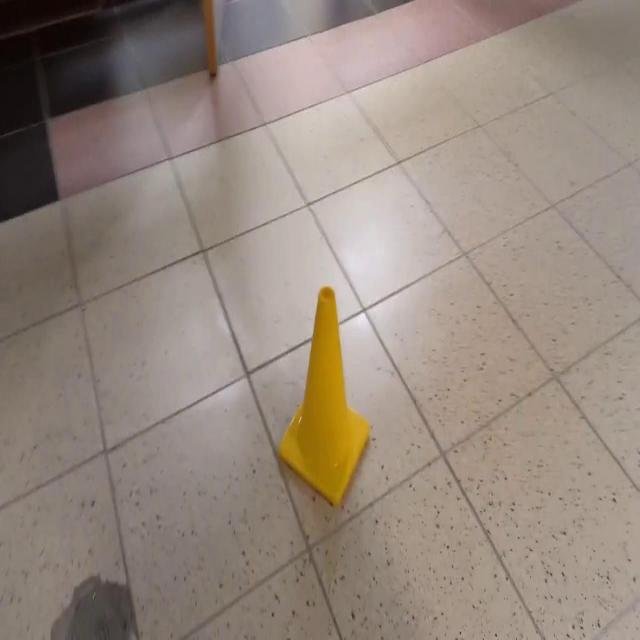frc_cone: (278, 279, 376, 517)
